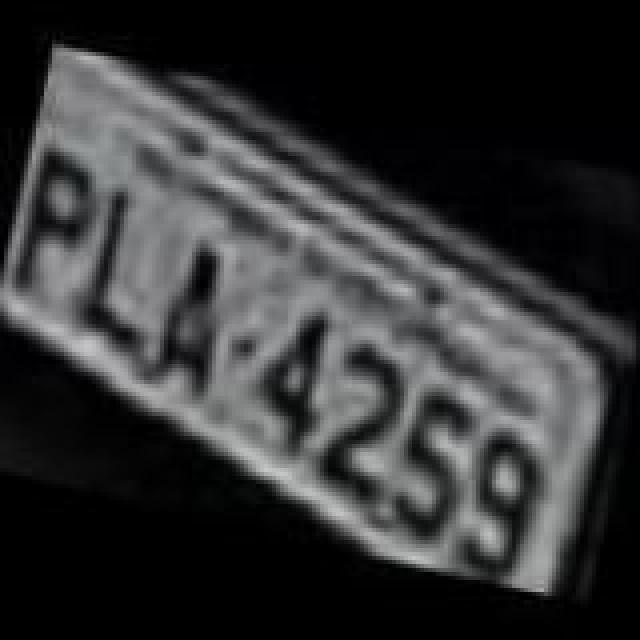2: (308, 338, 420, 502)
4: (242, 300, 346, 460)
5: (380, 384, 484, 544)
9: (452, 424, 552, 588)
A: (144, 234, 244, 406)
L: (74, 184, 178, 356)
P: (0, 144, 112, 312)
